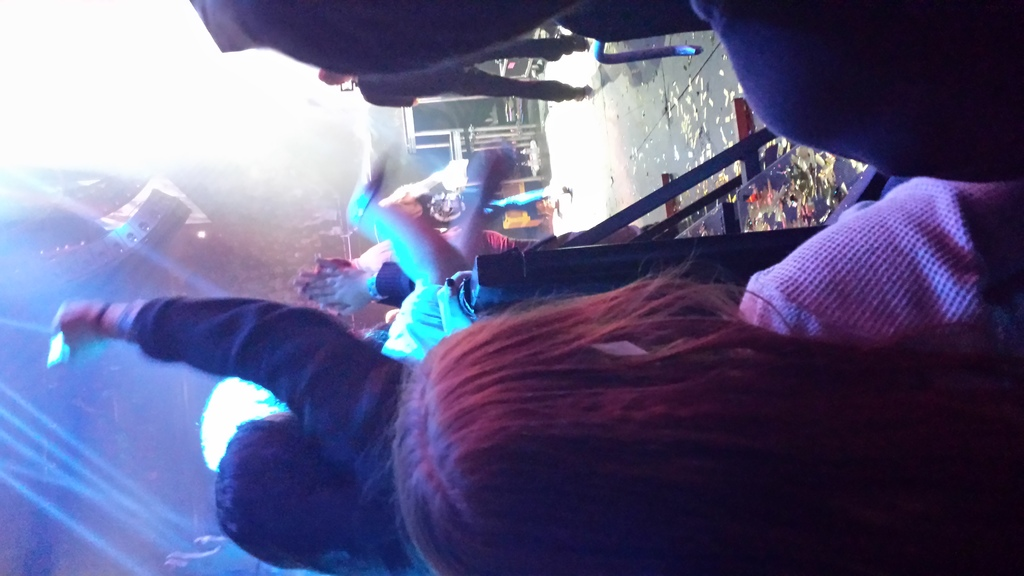Human_hand: (57, 319, 417, 472), (295, 269, 374, 321), (479, 152, 519, 193), (295, 255, 343, 284), (359, 238, 396, 267), (349, 175, 367, 229)
